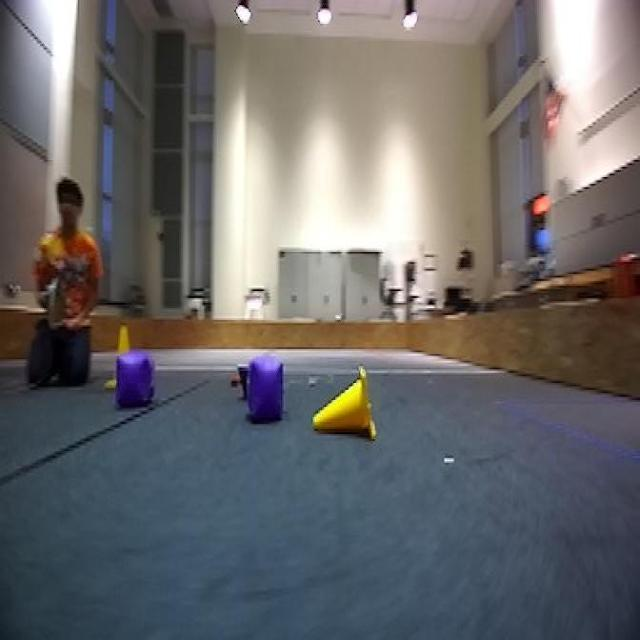frc_cone: (309, 360, 379, 450), (107, 320, 143, 354)
frc_cube: (242, 354, 288, 426), (113, 347, 146, 412)
